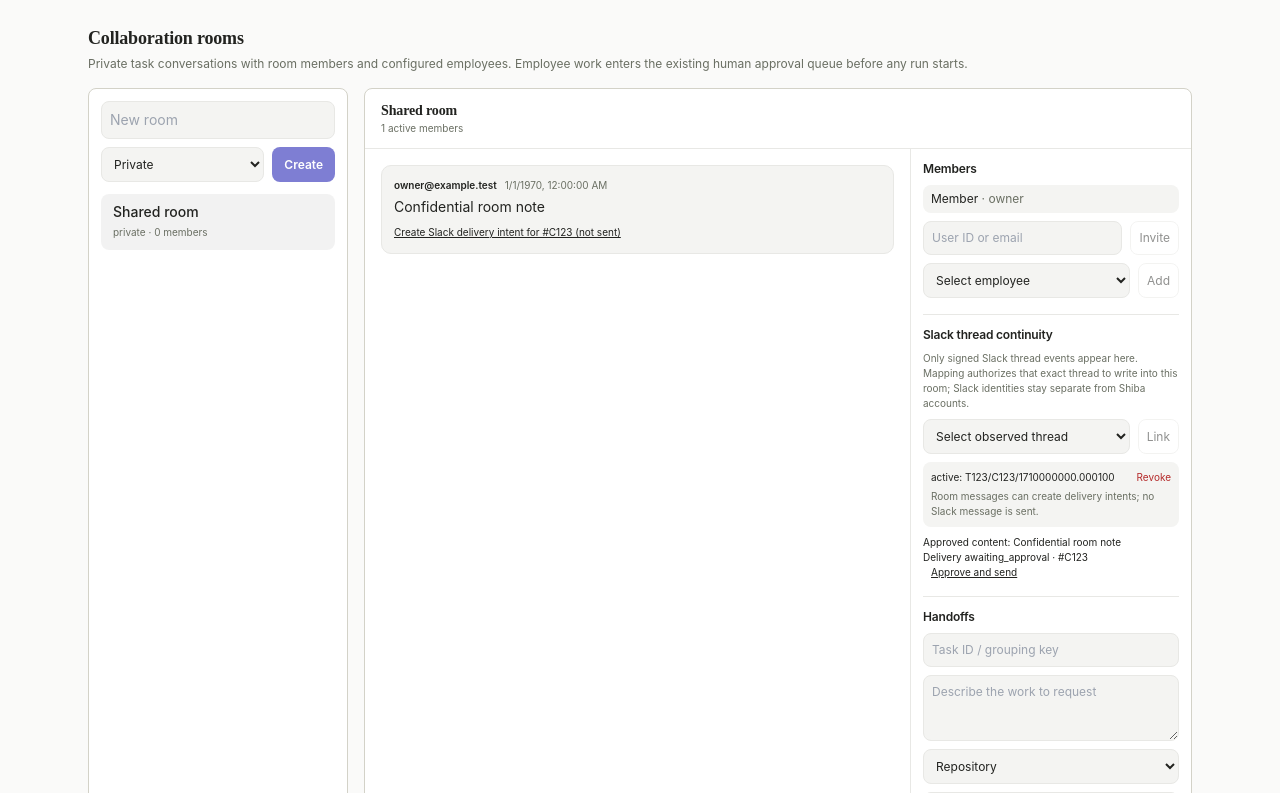
Test: CollaborationView room access polling › shows the dashboard approval action and refreshes the persisted Slack receipt
Expected: the text "Approved content: Confidential room note" is shown, [923,536,1121,548]
Click the button "Approve and send". click: (974, 572)
box: [931,565,1017,580]
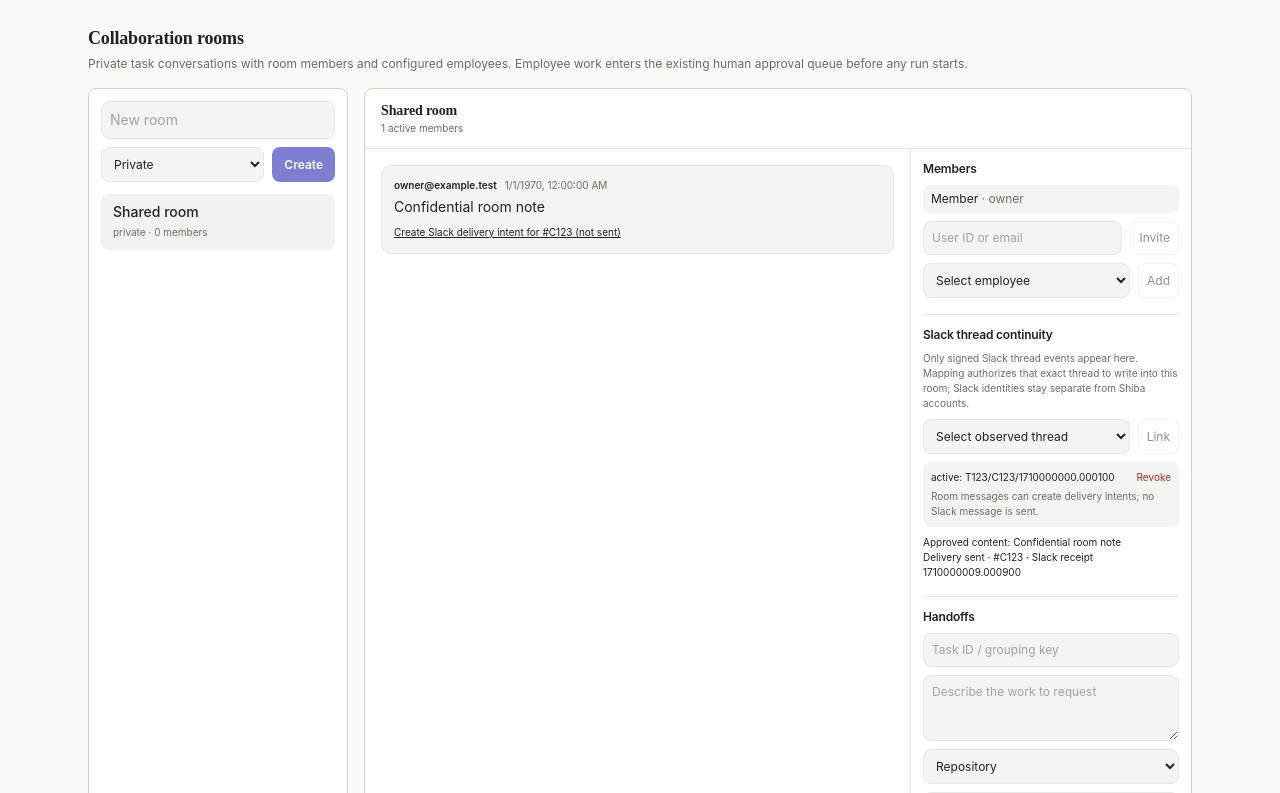
Expected: the text "Delivery sent · #C123 · Slack receipt 1710000009.000900" is shown, [923,551,1093,578]
